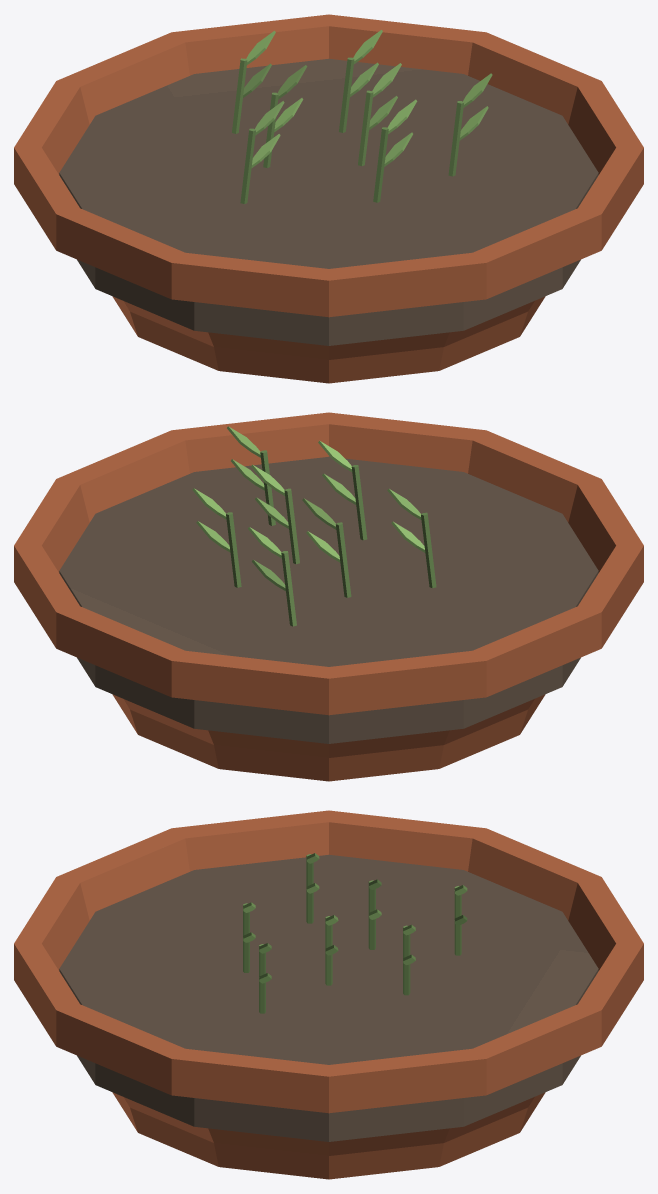
The model's file is moss-scoparium.glb.
The picture shows the model from 3 angles, top to bottom: view 1: azimuth 30°, elevation 25°; view 2: azimuth 150°, elevation 25°; view 3: azimuth 270°, elevation 25°; orthographic projection.
Visible parts, largest first — view 1: moss-scoparium/review-rooted-soil, moss-scoparium/review-terra-vessel, moss-scoparium/moss-stem-011, moss-scoparium/moss-stem-001, moss-scoparium/moss-stem-021, moss-scoparium/moss-stem-016, moss-scoparium/moss-stem-031, moss-scoparium/moss-stem-026; view 2: moss-scoparium/review-rooted-soil, moss-scoparium/review-terra-vessel, moss-scoparium/moss-stem-006, moss-scoparium/moss-stem-001, moss-scoparium/moss-stem-016, moss-scoparium/moss-stem-031, moss-scoparium/moss-stem-011, moss-scoparium/moss-stem-021; view 3: moss-scoparium/review-rooted-soil, moss-scoparium/review-terra-vessel.
Part boxes in pixels (left/top/right/bottom): moss-scoparium/review-rooted-soil: left=59, top=58, right=598, bottom=345; moss-scoparium/review-terra-vessel: left=14, top=14, right=643, bottom=383; moss-scoparium/moss-stem-011: left=373, top=127, right=388, bottom=202; moss-scoparium/moss-stem-001: left=358, top=90, right=373, bottom=166; moss-scoparium/moss-stem-021: left=240, top=128, right=255, bottom=203; moss-scoparium/moss-stem-016: left=339, top=57, right=354, bottom=132; moss-scoparium/moss-stem-031: left=232, top=58, right=247, bottom=133; moss-scoparium/moss-stem-026: left=448, top=101, right=463, bottom=176; moss-scoparium/review-rooted-soil: left=59, top=456, right=598, bottom=743; moss-scoparium/review-terra-vessel: left=14, top=412, right=643, bottom=781; moss-scoparium/moss-stem-006: left=335, top=522, right=351, bottom=597; moss-scoparium/moss-stem-001: left=284, top=488, right=299, bottom=564; moss-scoparium/moss-stem-016: left=226, top=512, right=241, bottom=587; moss-scoparium/moss-stem-031: left=281, top=551, right=296, bottom=626; moss-scoparium/moss-stem-011: left=351, top=465, right=367, bottom=540; moss-scoparium/moss-stem-021: left=421, top=512, right=436, bottom=588; moss-scoparium/review-rooted-soil: left=59, top=854, right=598, bottom=1141; moss-scoparium/review-terra-vessel: left=14, top=810, right=643, bottom=1179.
Size of the model in its own units: 0.25 by 0.0909 by 0.25.
Materials: 3 (3 with a texture image).
